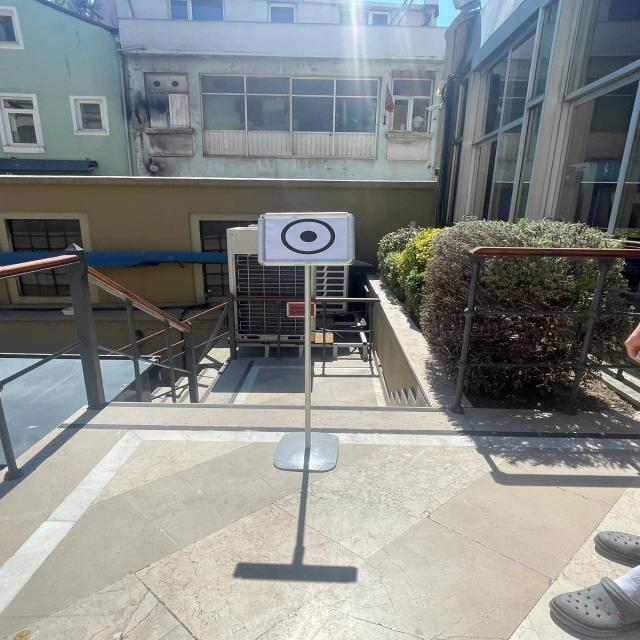Target: (244, 205, 374, 271)
inner: (292, 225, 326, 250)
